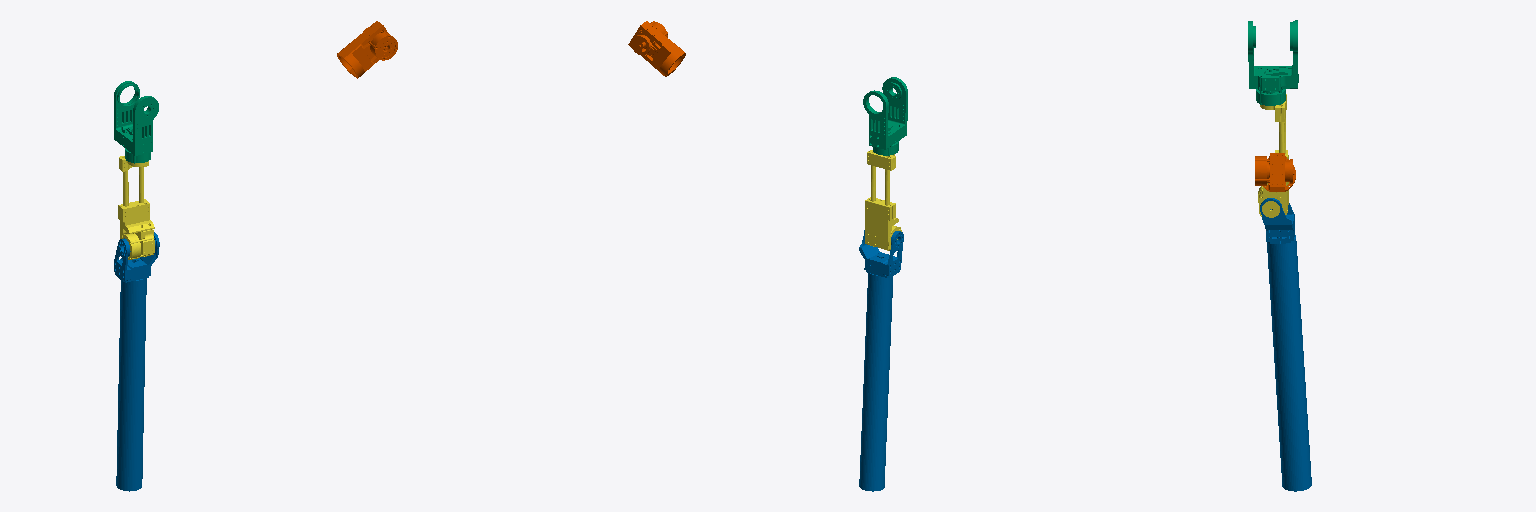
The robot description file, URDF, robot "urdf_assembly":
<?xml version='1.0' encoding='utf-8'?>
<robot name="urdf_assembly">
    <link name="link1_R">
        <inertial>
            <origin xyz="-2.4193385746684727e-05 0.00409156137890542 0.07161775119546349" rpy="0.0 -0.0 0.0" />
            <mass value="0.2905321473038439" />
            <inertia ixx="0.00043753563831849704" iyy="0.00043334665657479565" izz="0.00023205965482227367" ixy="-6.978993660813407e-07" iyz="-2.1766445686435926e-05" ixz="-4.993600913617813e-08" />
        </inertial>
        <visual name="link1_R_visual">
            <origin xyz="-2.5371946321683937e-09 6.022573195707536e-10 -0.11640000312442553" rpy="-3.267106030158122e-11 1.976196983832776e-14 2.705260340591211" />
            <geometry>
                <mesh filename="package://robot_description/meshes/link1_R.stl" scale="0.001 0.001 0.001" />
            </geometry>
        </visual>
        <collision name="link1_R_collision">
            <origin xyz="-2.5371946321683937e-09 6.022573195707536e-10 -0.11640000312442553" rpy="-3.267106030158122e-11 1.976196983832776e-14 2.705260340591211" />
            <geometry>
                <mesh filename="package://robot_description/meshes/link1_R.stl" scale="0.001 0.001 0.001" />
            </geometry>
        </collision>
    </link>
    <link name="base_link">
        <inertial>
            <origin xyz="-0.00873842445710318 0.48205629537494693 0.4196545707824189" rpy="0.0 0.0 0.0" />
            <mass value="516.6514723698799" />
            <inertia ixx="219.63823961016618" iyy="189.6710064664104" izz="142.0061352516364" ixy="1.56389856691977" iyz="80.14701730263339" ixz="-1.2596113929854116" />
        </inertial>
        <visual name="base_link_visual">
            <origin xyz="0.0 0.0 0.0" rpy="0.0 0.0 0.0" />
            <geometry>
                <mesh filename="package://robot_description/meshes/base_link.stl" scale="0.001 0.001 0.001" />
            </geometry>
        </visual>
        <collision name="base_link_collision">
            <origin xyz="0.0 0.0 0.0" rpy="0.0 0.0 0.0" />
            <geometry>
                <mesh filename="package://robot_description/meshes/base_link.stl" scale="0.001 0.001 0.001" />
            </geometry>
        </collision>
    </link>
    <link name="link2_R">
        <inertial>
            <origin xyz="-0.00976538548197741 -0.07742675312151619 0.029982979933191524" rpy="0.0 3.9853149662245715e-22 0.0" />
            <mass value="0.30865123883363765" />
            <inertia ixx="0.000893019669600996" iyy="0.000406664052939421" izz="0.0007257732019188511" ixy="-2.0007447912801714e-05" iyz="3.497579979554558e-05" ixz="9.057938747361674e-05" />
        </inertial>
        <visual name="link2_R_visual">
            <origin xyz="-0.20574389329865794 0.000535402955777613 -0.04640781663362376" rpy="1.1036672995749868 0.3927413892930476 1.3801619051893566" />
            <geometry>
                <mesh filename="package://robot_description/meshes/link2_R.stl" scale="0.001 0.001 0.001" />
            </geometry>
        </visual>
        <collision name="link2_R_collision">
            <origin xyz="-0.20574389329865794 0.000535402955777613 -0.04640781663362376" rpy="1.1036672995749868 0.3927413892930476 1.3801619051893566" />
            <geometry>
                <mesh filename="package://robot_description/meshes/link2_R.stl" scale="0.001 0.001 0.001" />
            </geometry>
        </collision>
    </link>
    <link name="link3_R">
        <inertial>
            <origin xyz="0.005473435521785106 0.17097400733111598 -0.007418842502801617" rpy="0.0 3.144186300207963e-18 0.0" />
            <mass value="0.3528953881849687" />
            <inertia ixx="0.0018450395586717377" iyy="0.00022558888780152935" izz="0.0018216150882152044" ixy="0.00012465016753974512" iyz="-7.196850745537169e-06" ixz="-2.6156615141024857e-05" />
        </inertial>
        <visual name="link3_R_visual">
            <origin xyz="-0.157913648821032 -0.1390237053413577 -0.13121604491455563" rpy="-0.908989776848435 -0.3395750591939968 -1.8206193370329844" />
            <geometry>
                <mesh filename="package://robot_description/meshes/link3_R.stl" scale="0.001 0.001 0.001" />
            </geometry>
        </visual>
        <collision name="link3_R_collision">
            <origin xyz="-0.157913648821032 -0.1390237053413577 -0.13121604491455563" rpy="-0.908989776848435 -0.3395750591939968 -1.8206193370329844" />
            <geometry>
                <mesh filename="package://robot_description/meshes/link3_R.stl" scale="0.001 0.001 0.001" />
            </geometry>
        </collision>
    </link>
    <link name="link4_R">
        <inertial>
            <origin xyz="-0.0880763067565718 0.11280477972534676 -0.297027696713218" rpy="0.0 -0.0 0.0" />
            <mass value="1.6992965767024981" />
            <inertia ixx="0.051654240149548725" iyy="0.04601012576957093" izz="0.00992564961992205" ixy="0.0035174787082349565" iyz="0.017914420747038914" ixz="-0.008504988343687177" />
        </inertial>
        <visual name="link4_R_visual">
            <origin xyz="-0.2549565608132793 0.28075760995347454 -0.20336011543597807" rpy="1.2371989824089813 0.9318680496078335 1.504555849153226" />
            <geometry>
                <mesh filename="package://robot_description/meshes/link4_R.stl" scale="0.001 0.001 0.001" />
            </geometry>
        </visual>
        <collision name="link4_R_collision">
            <origin xyz="-0.2549565608132793 0.28075760995347454 -0.20336011543597807" rpy="1.2371989824089813 0.9318680496078335 1.504555849153226" />
            <geometry>
                <mesh filename="package://robot_description/meshes/link4_R.stl" scale="0.001 0.001 0.001" />
            </geometry>
        </collision>
    </link>
    <link name="link1_L">
        <inertial>
            <origin xyz="-2.419090223185094e-05 0.0040915613810245735 0.07161775119534099" rpy="0.0 -0.0 0.0" />
            <mass value="0.2905321473038439" />
            <inertia ixx="0.0004375356383183129" iyy="0.0004333466565729083" izz="0.00023205965482290188" ixy="-6.978993663815546e-07" iyz="-2.176644569238662e-05" ixz="-4.993601243383325e-08" />
        </inertial>
        <visual name="link1_L_visual">
            <origin xyz="-5.627811106023728e-11 5.988109386123597e-10 -0.1164000031244278" rpy="-4.996003610813206e-16 -1.665334536937729e-16 2.7052603405912117" />
            <geometry>
                <mesh filename="package://robot_description/meshes/link1_L.stl" scale="0.001 0.001 0.001" />
            </geometry>
        </visual>
        <collision name="link1_L_collision">
            <origin xyz="-5.627811106023728e-11 5.988109386123597e-10 -0.1164000031244278" rpy="-4.996003610813206e-16 -1.665334536937729e-16 2.7052603405912117" />
            <geometry>
                <mesh filename="package://robot_description/meshes/link1_L.stl" scale="0.001 0.001 0.001" />
            </geometry>
        </collision>
    </link>
    <link name="link2_L">
        <inertial>
            <origin xyz="-0.008959069414034779 0.07818911798220114 -0.028203578395554648" rpy="0.0 -0.0 0.0" />
            <mass value="0.30865123883363765" />
            <inertia ixx="0.0008934034129444968" iyy="0.0004048267354716112" izz="0.0007272267760425634" ixy="1.7018292181996898e-05" iyz="2.8574164218541432e-05" ixz="-8.982662400667537e-05" />
        </inertial>
        <visual name="link2_L_visual">
            <origin xyz="-0.20574389305229304 0.0005353991703748307 0.04640781648980418" rpy="-2.0334025651258645 -0.370262074887406 -1.3922087211975844" />
            <geometry>
                <mesh filename="package://robot_description/meshes/link2_L.stl" scale="0.001 0.001 0.001" />
            </geometry>
        </visual>
        <collision name="link2_L_collision">
            <origin xyz="-0.20574389305229304 0.0005353991703748307 0.04640781648980418" rpy="-2.0334025651258645 -0.370262074887406 -1.3922087211975844" />
            <geometry>
                <mesh filename="package://robot_description/meshes/link2_L.stl" scale="0.001 0.001 0.001" />
            </geometry>
        </collision>
    </link>
    <link name="link3_L">
        <inertial>
            <origin xyz="0.0021142915024112874 -0.17113718870152597 0.004970015155139862" rpy="0.0 5.236696493104985e-17 0.0" />
            <mass value="0.3528953881849687" />
            <inertia ixx="0.001842703534462492" iyy="0.0002324156244245426" izz="0.0018171243758027496" ixy="-0.00016273871757888265" iyz="-1.488913650832922e-05" ixz="2.1961502290756313e-05" />
        </inertial>
        <visual name="link3_L_visual">
            <origin xyz="-0.1426205860897198 0.1407333555676655 0.14606660385528775" rpy="2.31843203609107 0.3058167418765026 1.8250585126177694" />
            <geometry>
                <mesh filename="package://robot_description/meshes/link3_L.stl" scale="0.001 0.001 0.001" />
            </geometry>
        </visual>
        <collision name="link3_L_collision">
            <origin xyz="-0.1426205860897198 0.1407333555676655 0.14606660385528775" rpy="2.31843203609107 0.3058167418765026 1.8250585126177694" />
            <geometry>
                <mesh filename="package://robot_description/meshes/link3_L.stl" scale="0.001 0.001 0.001" />
            </geometry>
        </collision>
    </link>
    <link name="link4_L">
        <inertial>
            <origin xyz="-0.0853280732244556 -0.11826789795946695 0.2957019220333888" rpy="5.551115123125783e-17 2.775557561562892e-17 0.0" />
            <mass value="1.6992965767024981" />
            <inertia ixx="0.05176232822682359" iyy="0.04506833183599175" izz="0.010759355476227236" ixy="-0.0036047064213234462" iyz="0.01884125243333611" ixz="0.008143965110224213" />
        </inertial>
        <visual name="link4_L_visual">
            <origin xyz="-0.2673593136981753 -0.2698044251360261 0.20225623416677338" rpy="-1.9622698476282834 -0.8902316361221261 -1.5315722154623232" />
            <geometry>
                <mesh filename="package://robot_description/meshes/link4_L.stl" scale="0.001 0.001 0.001" />
            </geometry>
        </visual>
        <collision name="link4_L_collision">
            <origin xyz="-0.2673593136981753 -0.2698044251360261 0.20225623416677338" rpy="-1.9622698476282834 -0.8902316361221261 -1.5315722154623232" />
            <geometry>
                <mesh filename="package://robot_description/meshes/link4_L.stl" scale="0.001 0.001 0.001" />
            </geometry>
        </collision>
    </link>
    <joint name="rotation-6" type="continuous">
        <origin xyz="-0.2441066300000001 0.01500000000000002 1.3748987300000002" rpy="-5.551115123125993e-17 1.0471975511966198 -3.141592653589793" />
        <parent link="base_link" />
        <child link="link1_R" />
        <axis xyz="-2.018922412028168e-07 1.48139587715686e-49 0.9999996503124187" />
    </joint>
    <joint name="rotation-7" type="continuous">
        <origin xyz="0.0006290688094259167 0.04339544 0.08999999913938624" rpy="0.9539450050874189 -0.9109853487755191 0.7314631306193936" />
        <parent link="link1_R" />
        <child link="link2_R" />
        <axis xyz="-0.4160060205695197 0.012552999967340184 0.9092752723376636" />
    </joint>
    <joint name="rotation-8" type="continuous">
        <origin xyz="-0.013629873522906096 -0.13802738000098402 0.026903301671795728" rpy="1.570796326795875 -1.551353669612284 1.5620696805339125" />
        <parent link="link2_R" />
        <child link="link3_R" />
        <axis xyz="-0.011639528345018444 0.9999230878951888 -0.004390470937833131" />
    </joint>
    <joint name="rotation-9" type="continuous">
        <origin xyz="0.011285983082800577 0.22526331375483963 0.02608533621794905" rpy="1.5707963267949412 -1.188168268029673 -0.45877755786384566" />
        <parent link="link3_R" />
        <child link="link4_R" />
        <axis xyz="0.9765801478265517 -0.04409612647682489 -0.21058594844578482" />
    </joint>
    <joint name="rotation-10" type="continuous">
        <origin xyz="0.2441066299999999 0.015000000000000046 1.3748987300000002" rpy="-5.5511151231255695e-17 -1.0471975511965756 -3.141592653589793" />
        <parent link="base_link" />
        <child link="link1_L" />
        <axis xyz="2.0189219712696271e-07 -1.48139587715686e-49 0.9999996503124187" />
    </joint>
    <joint name="rotation-11" type="continuous">
        <origin xyz="0.0006290701500256546 0.04339544 0.08999999853862747" rpy="-0.953945005107295 0.9109853487863953 0.7314631306319763" />
        <parent link="link1_L" />
        <child link="link2_L" />
        <axis xyz="0.4160060205693518 -0.012553 0.9092752723372896" />
    </joint>
    <joint name="rotation-12" type="continuous">
        <origin xyz="-0.0121958177725703 0.13874027000000014 -0.02373858282422013" rpy="1.5707963267825018 1.5513536695824852 -1.5620696805339183" />
        <parent link="link2_L" />
        <child link="link3_L" />
        <axis xyz="0.03449951014083652 0.9993871355309667 0.005970662463400102" />
    </joint>
    <joint name="rotation-13" type="continuous">
        <origin xyz="0.002955894127293064 -0.22507493080785296 -0.02764236609769334" rpy="1.5707963267949412 1.1881682680296732 0.4587775578638458" />
        <parent link="link3_L" />
        <child link="link4_L" />
        <axis xyz="-0.9841517837264497 0.03490526015061609 -0.17385634498017472" />
    </joint>
</robot>

--- What the picture shows (computed from the rendered views, not written in the file) ---
3 views of the same robot in one strip: view 1: azimuth 30°, elevation 25°; view 2: azimuth 150°, elevation 25°; view 3: azimuth 270°, elevation 25° (orthographic).
Model urdf_assembly with 9 links and 8 joints (8 continuous), rooted at base_link, posed all joints at 0.
Visible links, largest first — view 1: link4_R, link2_R, link3_R, link1_L; view 2: link4_R, link2_R, link3_R, link1_L; view 3: link4_R, link2_R, link1_L, link3_R.
Link boxes in pixels (<box>): link4_R: <box>114,232,159,491</box>; link2_R: <box>114,81,158,163</box>; link3_R: <box>118,156,154,259</box>; link1_L: <box>337,21,397,78</box>; link4_R: <box>859,230,903,491</box>; link2_R: <box>863,77,907,155</box>; link3_R: <box>865,150,901,250</box>; link1_L: <box>628,21,685,76</box>; link4_R: <box>1260,198,1311,491</box>; link2_R: <box>1248,20,1298,105</box>; link1_L: <box>1255,153,1295,191</box>; link3_R: <box>1258,94,1288,217</box>.
Bounding box of the posed robot: 0.7258 × 0.1291 × 1.04 m (x, y, z).
4 mesh visuals loaded from 9 distinct referenced files (4 binary STL); not drawn: 5 (reference not matched to a file when rendering).